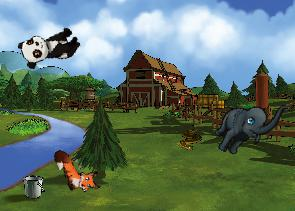elephant: (208, 82, 289, 169)
fox: (50, 139, 104, 201)
panda: (16, 22, 83, 71)
